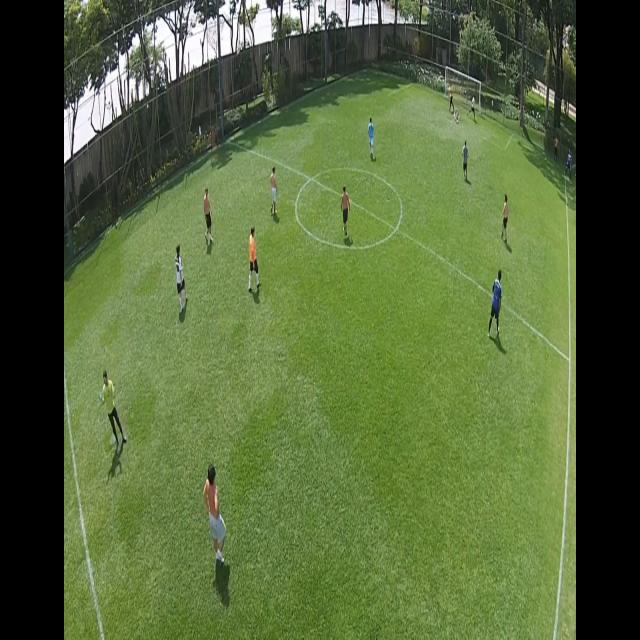humans: (202, 462, 227, 570), (99, 366, 127, 453), (173, 239, 190, 314), (247, 222, 262, 302), (489, 264, 504, 340), (202, 181, 218, 250), (340, 182, 352, 246), (268, 163, 280, 220), (501, 190, 511, 248), (367, 112, 377, 164), (462, 135, 472, 186)
